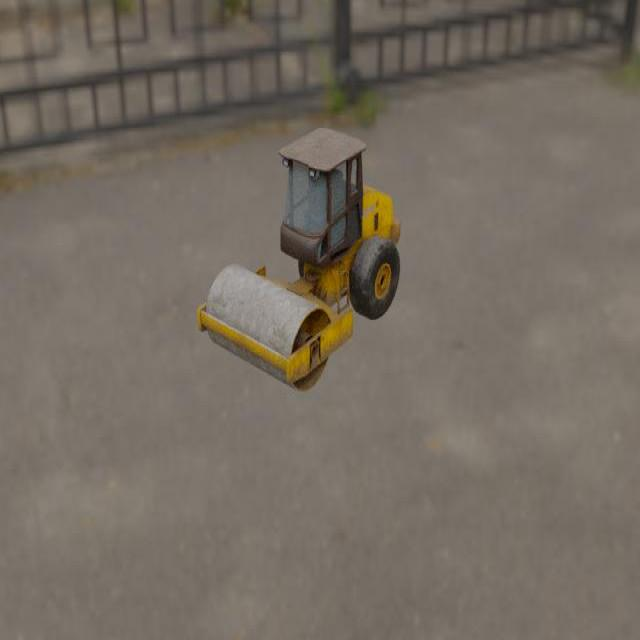Roller: (196, 128, 401, 393)
